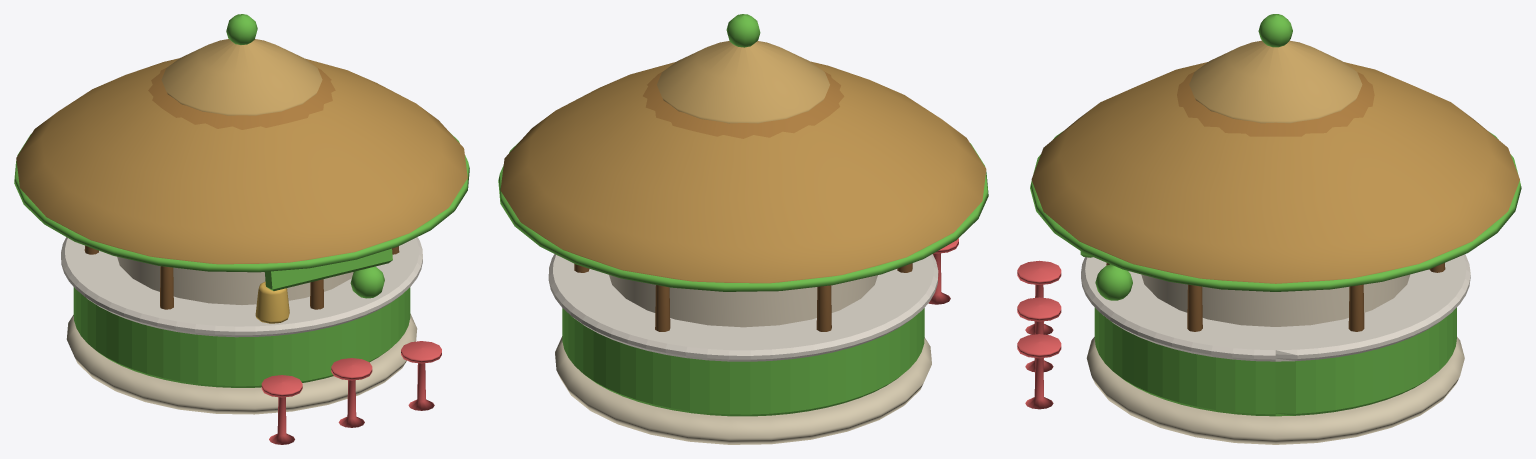
Rendered from quiosque_5.glb.
The picture shows the model from 3 angles, left to right: view 1: azimuth 30°, elevation 25°; view 2: azimuth 150°, elevation 25°; view 3: azimuth 270°, elevation 25°; orthographic projection. The views are drawn at different scales.
Visible parts, largest first — view 1: quiosque_5_corpo; view 2: quiosque_5_corpo; view 3: quiosque_5_corpo.
Boxes of the visible parts, x1=… form: quiosque_5_corpo: x1=14, y1=14, x2=469, y2=444; quiosque_5_corpo: x1=498, y1=14, x2=988, y2=444; quiosque_5_corpo: x1=1017, y1=14, x2=1521, y2=444.
Size of the model in its own units: 6.24 by 4.92 by 6.4.
